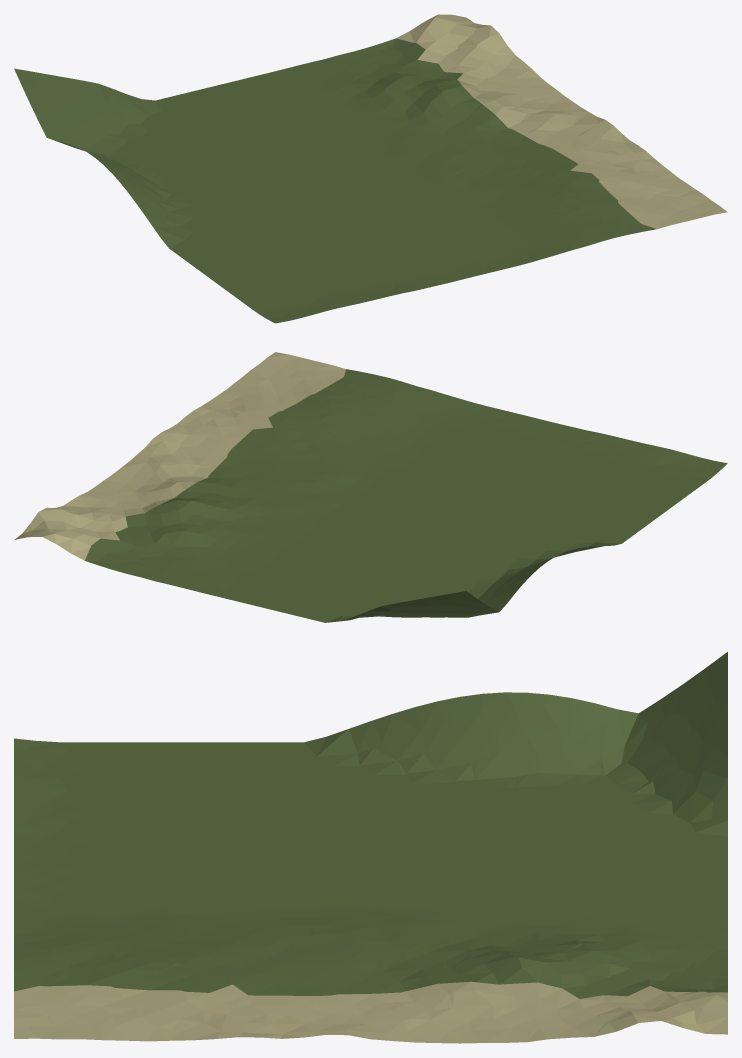
Rendered from Ground_-2_-4.glb.
3 renders of one model, top to bottom at view 1: azimuth 30°, elevation 25°; view 2: azimuth 150°, elevation 25°; view 3: azimuth 270°, elevation 25°, orthographic. The views are drawn at different scales.
Visible parts, largest first — view 1: Ground_-2_-4; view 2: Ground_-2_-4; view 3: Ground_-2_-4.
Boxes of the visible parts, bbox=[...] form: Ground_-2_-4: bbox=[14, 14, 727, 323]; Ground_-2_-4: bbox=[14, 352, 727, 622]; Ground_-2_-4: bbox=[14, 652, 727, 1043].
Size of the model in its own units: 768 by 108 by 768.
